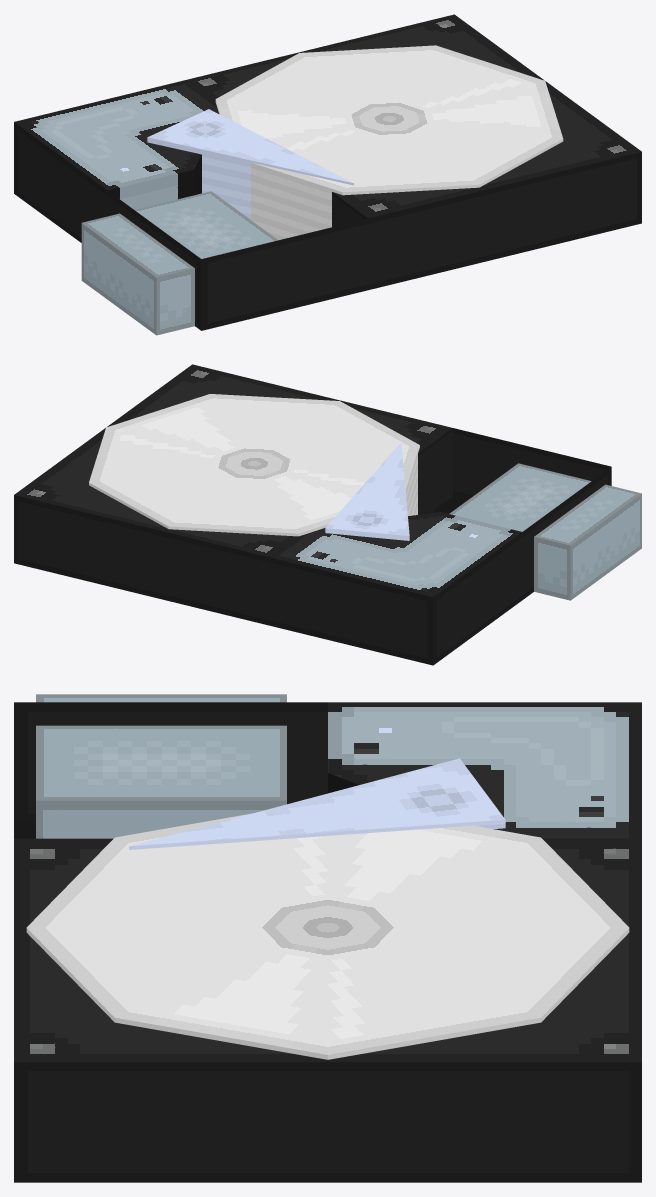
The model's file is hdd.57193f05.glb.
3 views of the same model, one above another, from view 1: azimuth 30°, elevation 25°; view 2: azimuth 150°, elevation 25°; view 3: azimuth 270°, elevation 25° (orthographic). The views are drawn at different scales.
Visible parts, largest first — view 1: Cube, Cube.002, Cube.001; view 2: Cube, Cube.002, Cube.001; view 3: Cube, Cube.002, Cube.001.
Boxes of the visible parts, x1,y1,x2,y2 form: Cube: (14, 14, 641, 330); Cube.002: (81, 191, 277, 335); Cube.001: (147, 109, 353, 219); Cube: (14, 364, 611, 665); Cube.002: (449, 463, 641, 600); Cube.001: (325, 442, 409, 540); Cube: (14, 702, 641, 1182); Cube.002: (36, 694, 286, 838); Cube.001: (129, 758, 505, 849).
Size of the model in its own units: 3.69 by 0.5661 by 2.5.
1 material, 1 textured.
